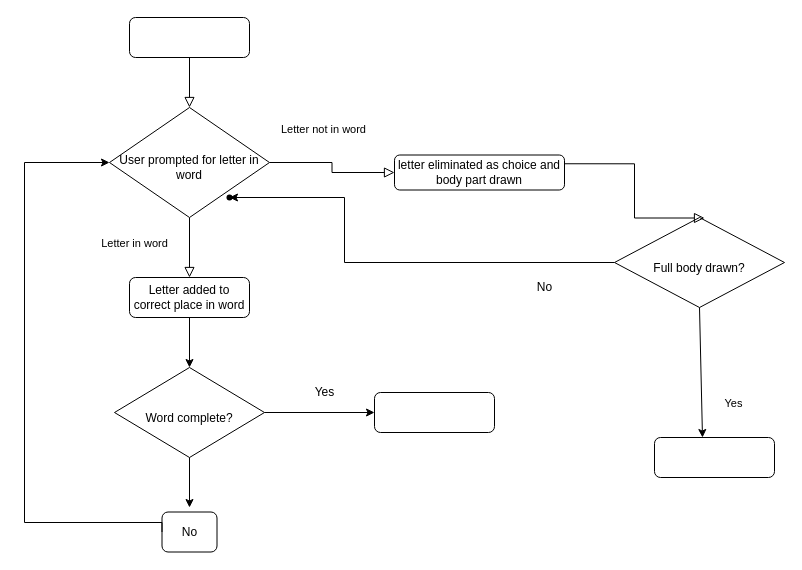
This 802x570 diagram has some shape labels left out. Each missing label, with the centre of its shape:
"Game over" belongs at (x=714, y=457).
"Player wins" belongs at (x=434, y=412).
"Word is selected or entered" belongs at (x=189, y=37).
